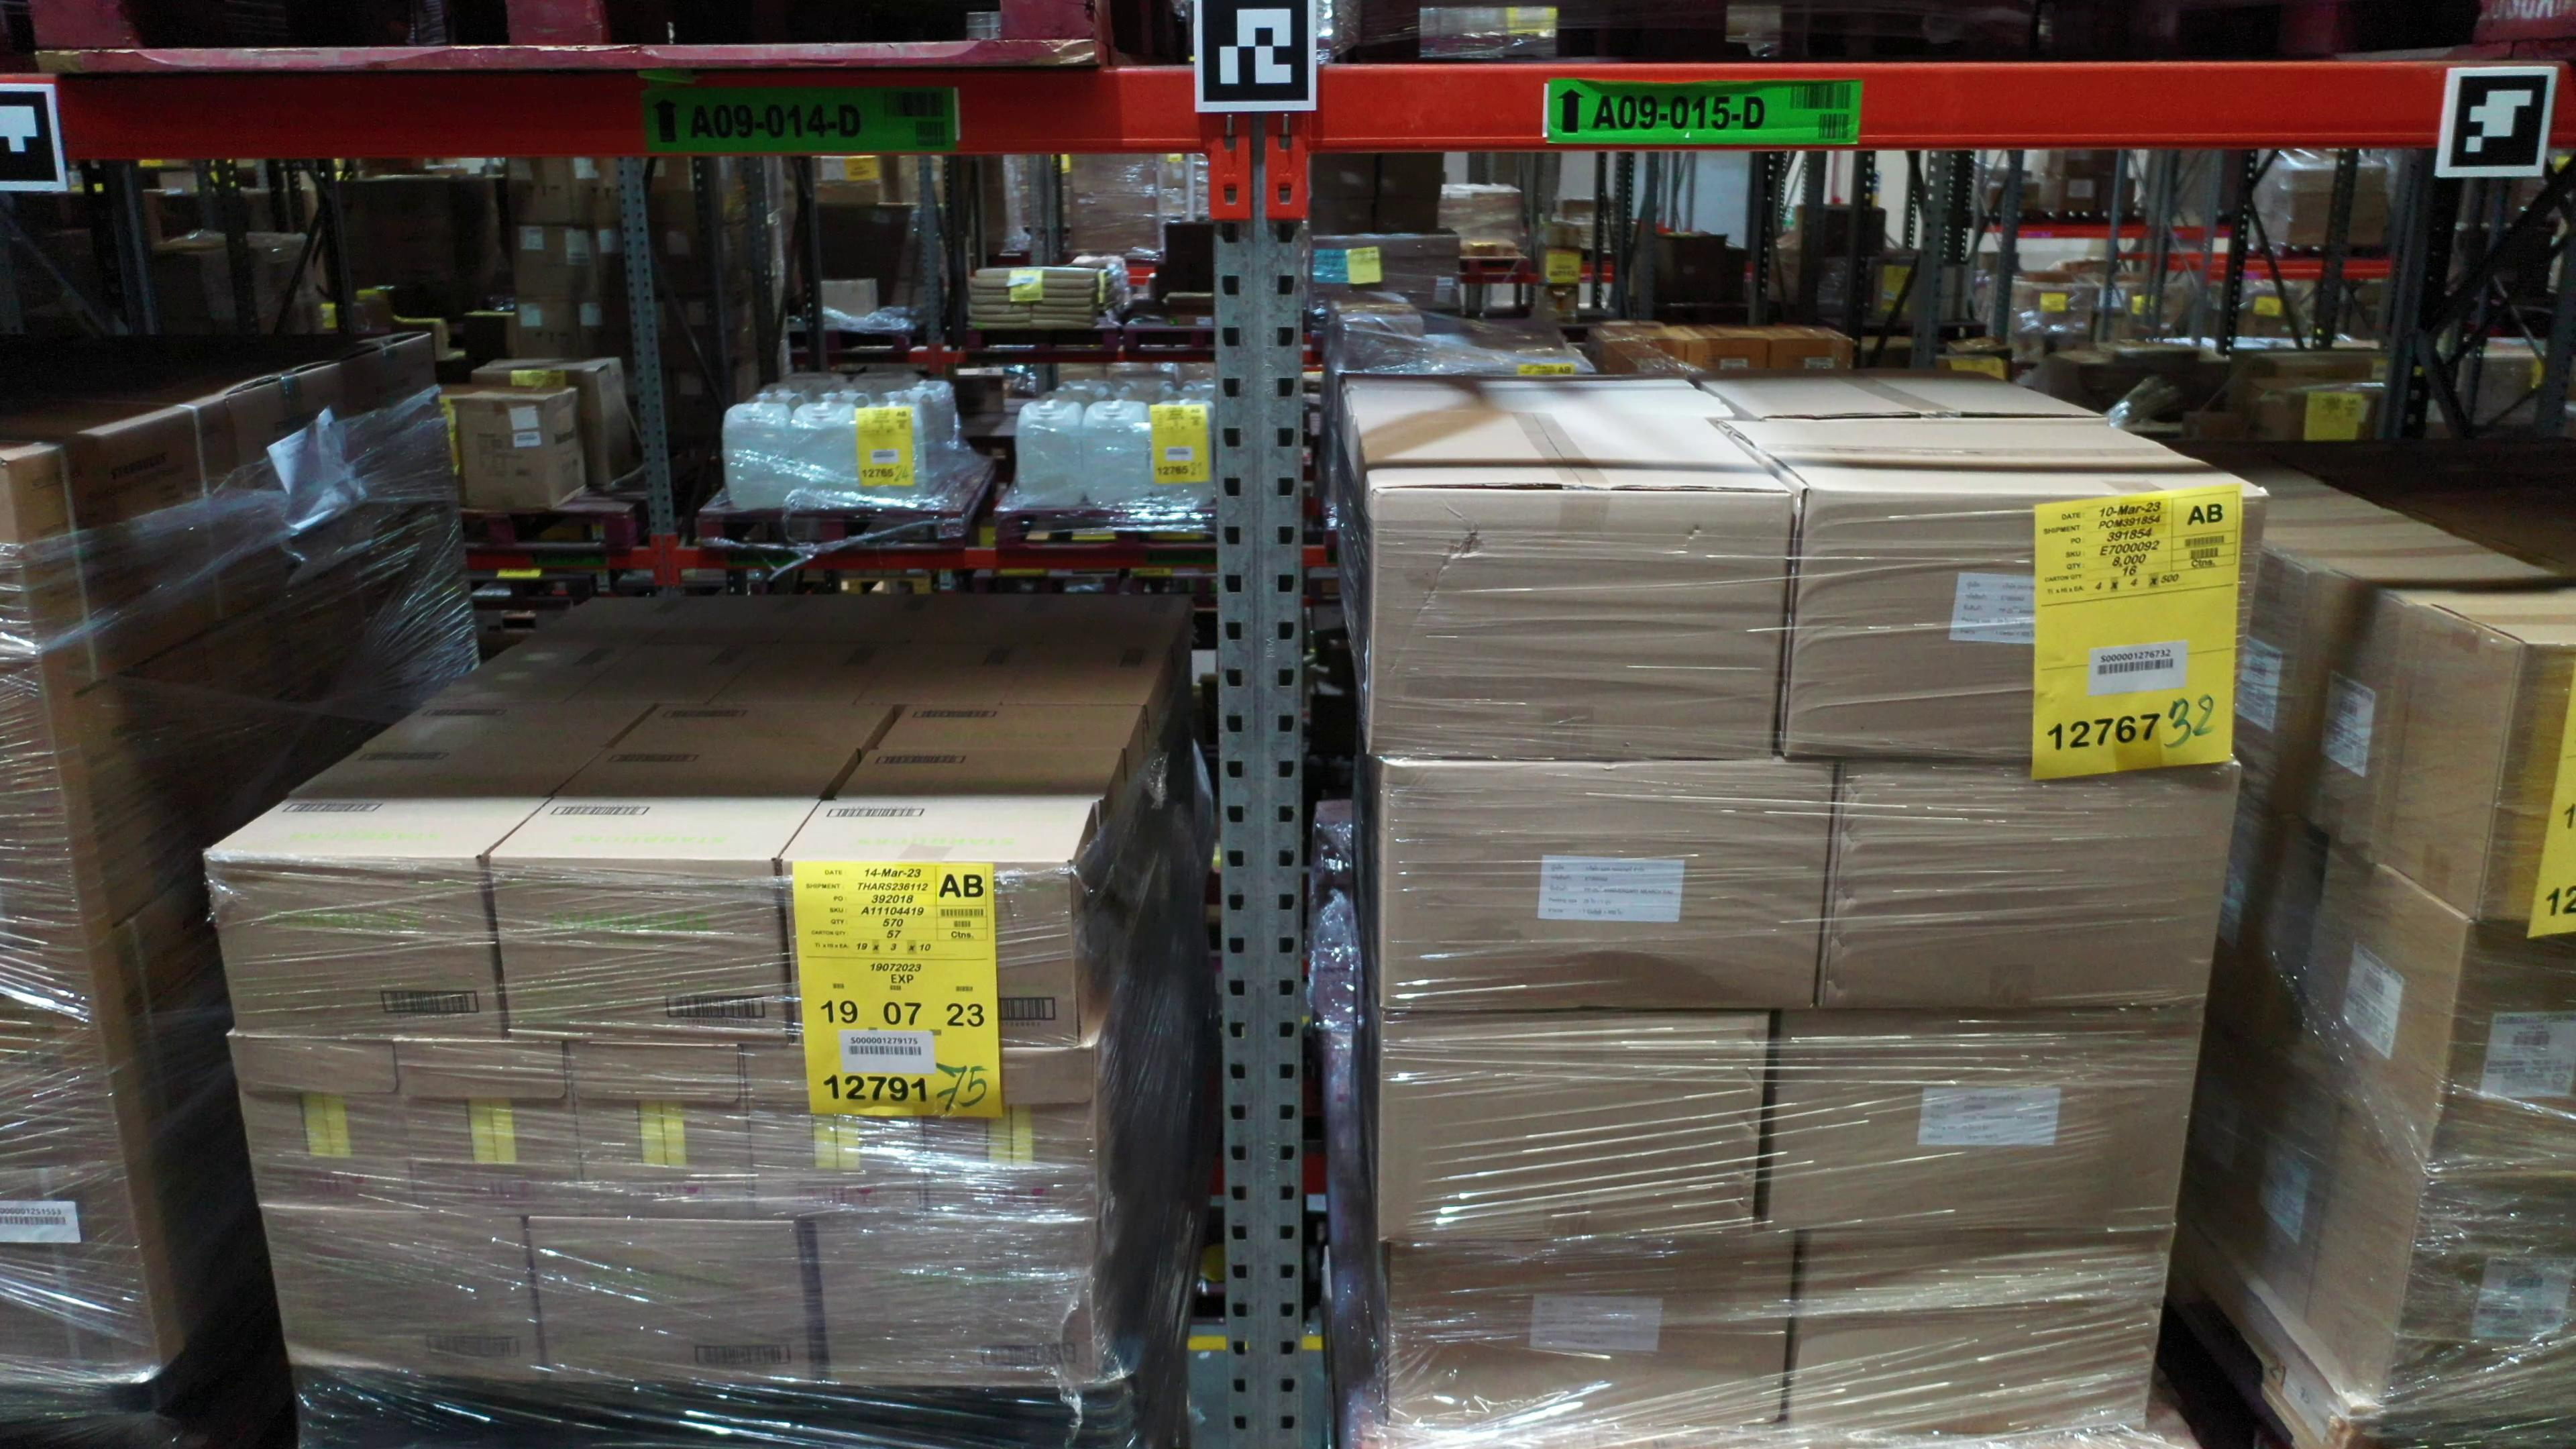-: (1782, 488, 2270, 768), (1366, 483, 1794, 761), (1378, 757, 1833, 1016), (1822, 757, 2243, 1016), (1760, 1007, 2201, 1235), (1375, 1010, 1766, 1247), (1387, 1235, 1796, 1442), (1787, 1228, 2176, 1438), (485, 855, 791, 1044), (202, 856, 506, 1042), (780, 862, 1079, 1047), (260, 1205, 548, 1380), (527, 1214, 814, 1387), (814, 1221, 1095, 1389), (2381, 1168, 2576, 1405), (2429, 918, 2576, 1169), (0, 1155, 159, 1373), (743, 1042, 931, 1226), (566, 1040, 755, 1221), (396, 1037, 587, 1214), (226, 1035, 418, 1210), (916, 1047, 1100, 1223), (2475, 644, 2576, 918), (0, 947, 124, 1168), (0, 704, 90, 947), (0, 460, 51, 706)
